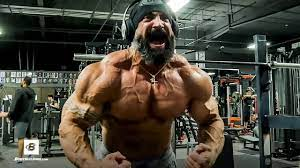face: (135, 12, 181, 67)
